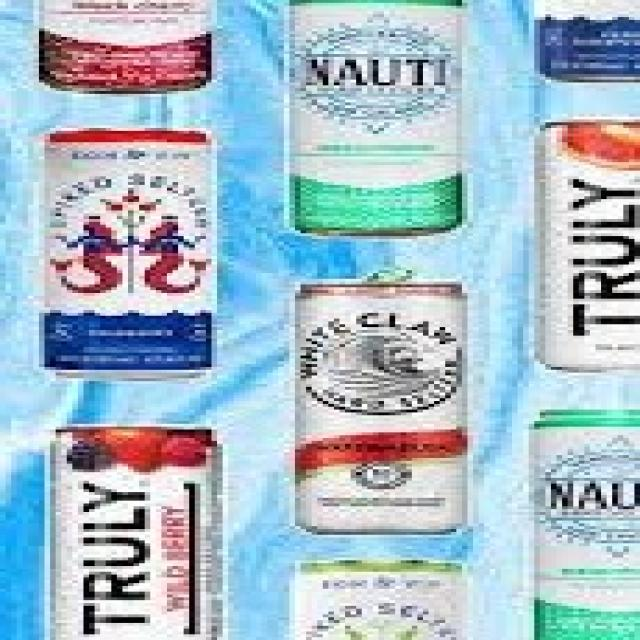Cans: (22, 116, 228, 386), (284, 270, 478, 540)
